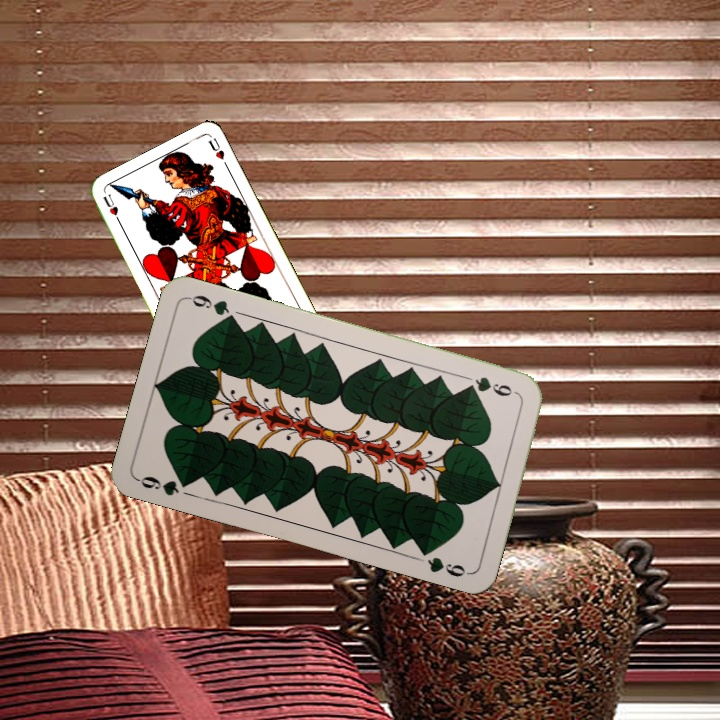G9: (133, 472, 194, 499), (462, 372, 522, 399)
HU: (98, 190, 124, 227)
